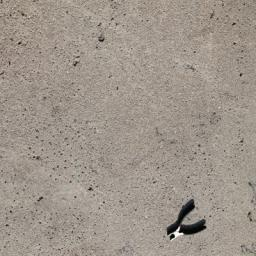FOD: (161, 197, 209, 249)
